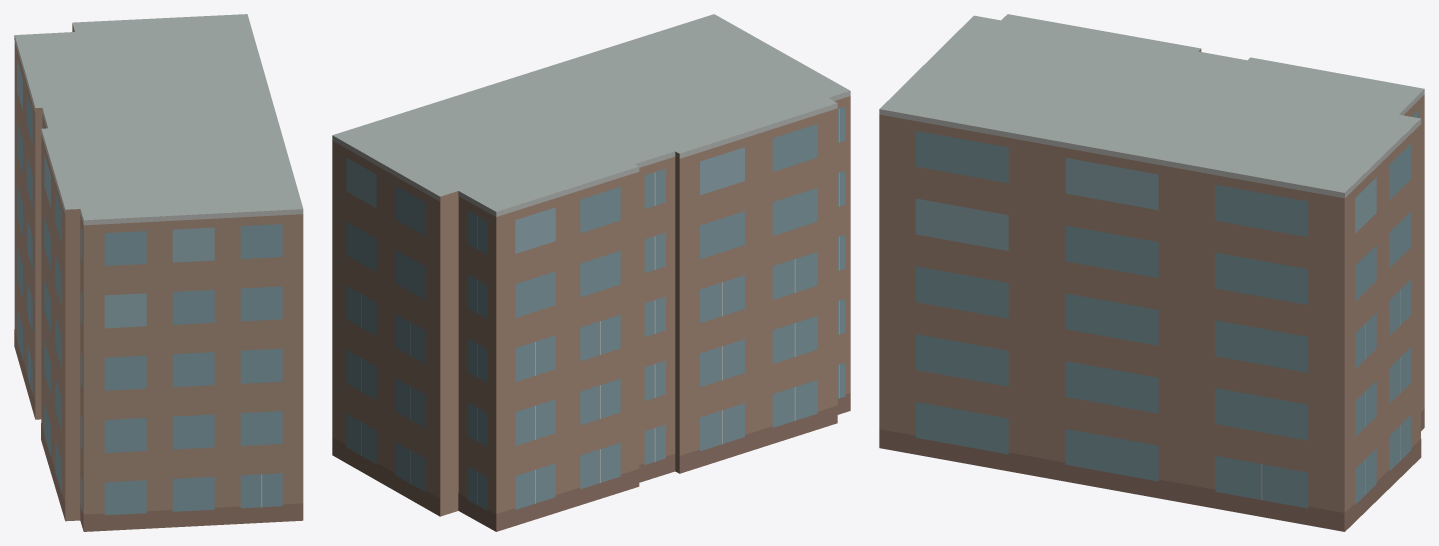
The model's file is survey-upis-33033983.glb.
The picture shows the model from 3 angles, left to right: view 1: azimuth 30°, elevation 25°; view 2: azimuth 150°, elevation 25°; view 3: azimuth 270°, elevation 25°; orthographic projection. The views are drawn at different scales.
Visible parts, largest first — view 1: survey-upis-33033983.tmp; view 2: survey-upis-33033983.tmp; view 3: survey-upis-33033983.tmp.
Boxes of the visible parts, <box> form: survey-upis-33033983.tmp: <box>14,14,303,531</box>; survey-upis-33033983.tmp: <box>332,14,850,531</box>; survey-upis-33033983.tmp: <box>879,14,1424,531</box>.
Size of the model in its own units: 17.28 by 15.25 by 22.24.
